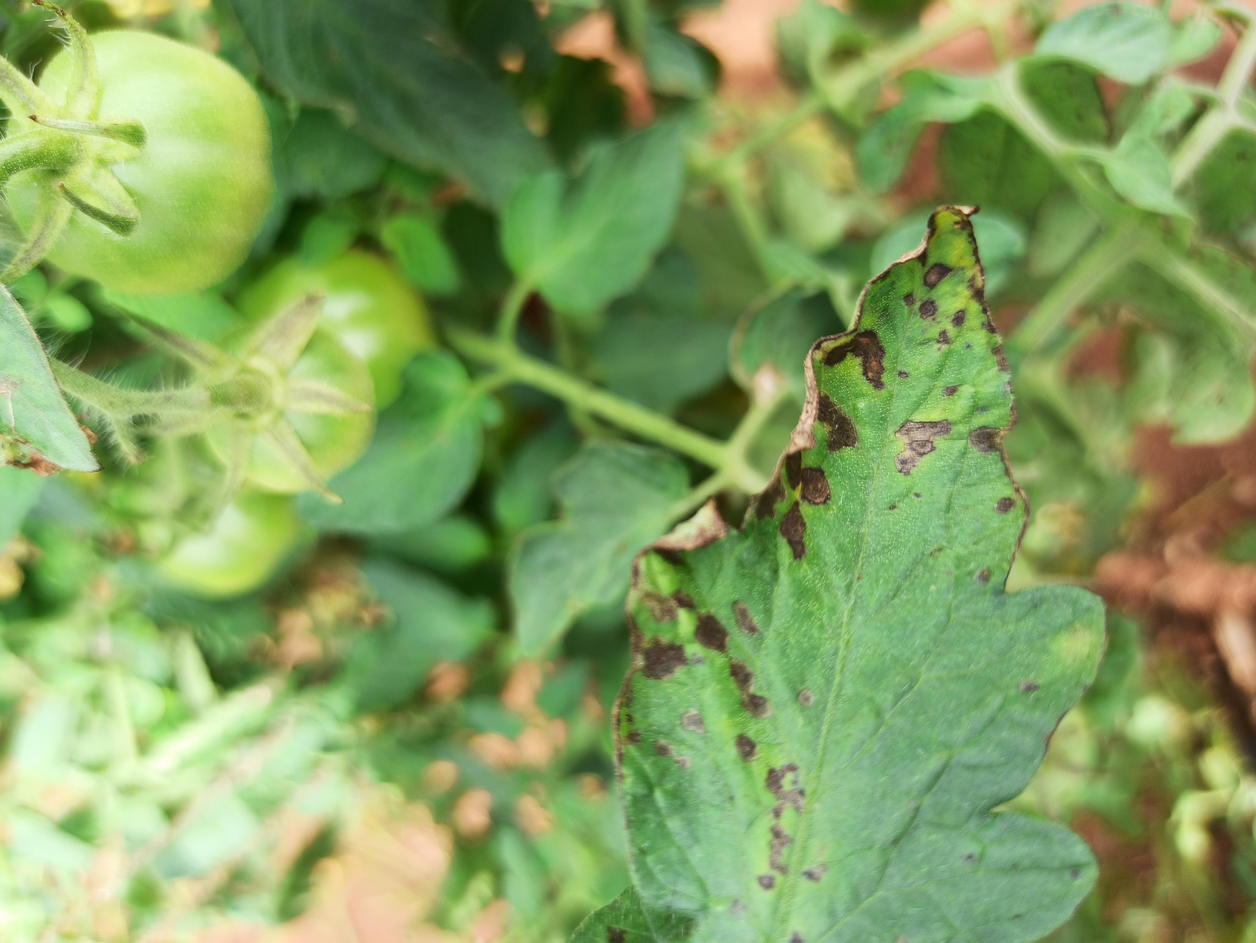Early Blight: (145, 0, 646, 747)
